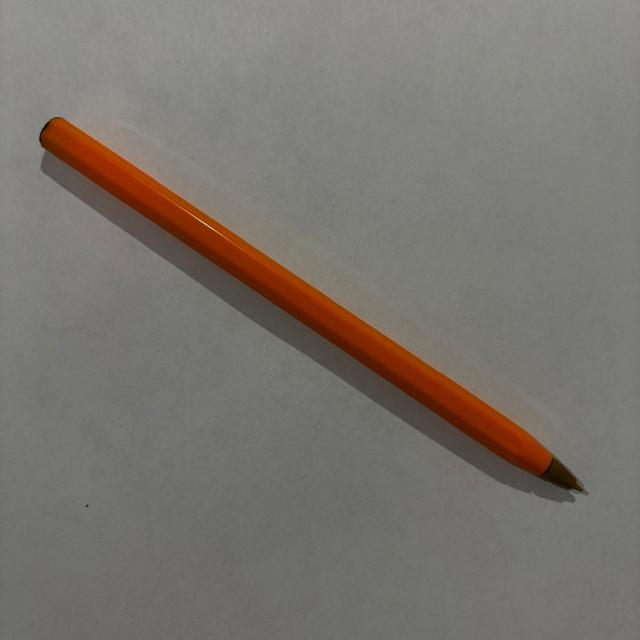pencil: (39, 114, 584, 490)
